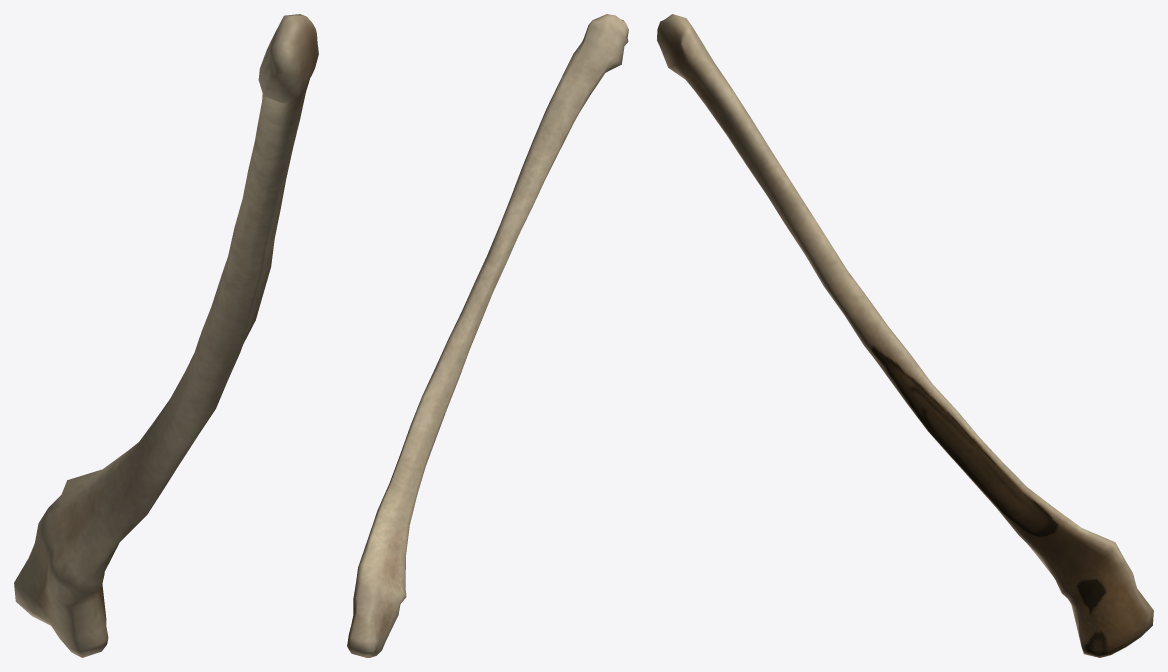
File: Fibula.glb
The picture shows the model from 3 angles, left to right: view 1: azimuth 30°, elevation 25°; view 2: azimuth 150°, elevation 25°; view 3: azimuth 270°, elevation 25°; orthographic projection. The views are drawn at different scales.
Parts seen in each view (by area): view 1: Fibula_Right1:Fibula_Right; view 2: Fibula_Right1:Fibula_Right; view 3: Fibula_Right1:Fibula_Right.
Part boxes in pixels (left/top/right/bottom): Fibula_Right1:Fibula_Right: left=14, top=14, right=318, bottom=657; Fibula_Right1:Fibula_Right: left=347, top=14, right=628, bottom=657; Fibula_Right1:Fibula_Right: left=657, top=14, right=1153, bottom=657.
Bounding box in the file's own units: 16.76 × 96.82 × 71.72.
1 material, 1 textured.
